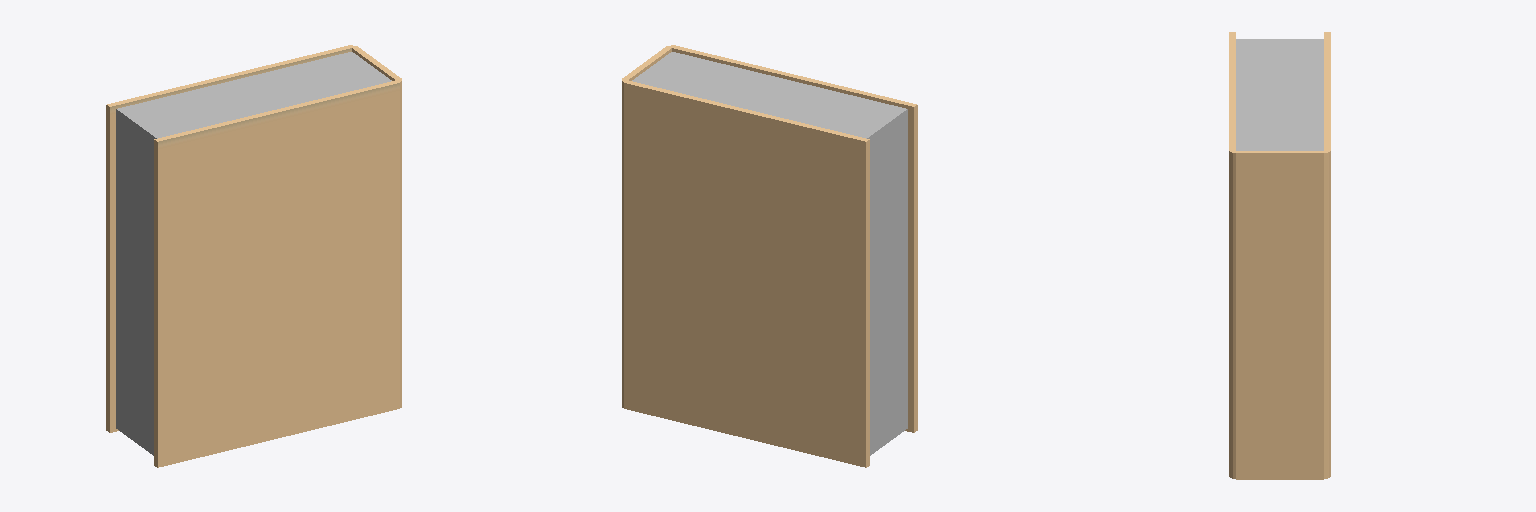
3 views of the same model, side by side, from view 1: azimuth 30°, elevation 25°; view 2: azimuth 150°, elevation 25°; view 3: azimuth 270°, elevation 25° (orthographic).
Visible parts, largest first — view 1: Cube, Cube.001; view 2: Cube, Cube.001; view 3: Cube, Cube.001.
Part boxes in pixels (x1,y1,x2,y2): Cube: (106, 45, 401, 467); Cube.001: (116, 52, 391, 455); Cube: (622, 45, 917, 467); Cube.001: (632, 52, 907, 455); Cube: (1229, 32, 1330, 479); Cube.001: (1236, 39, 1323, 150).
Bounding box in the file's own units: 1.1 × 1.39 × 0.3935.
2 materials, 1 textured.